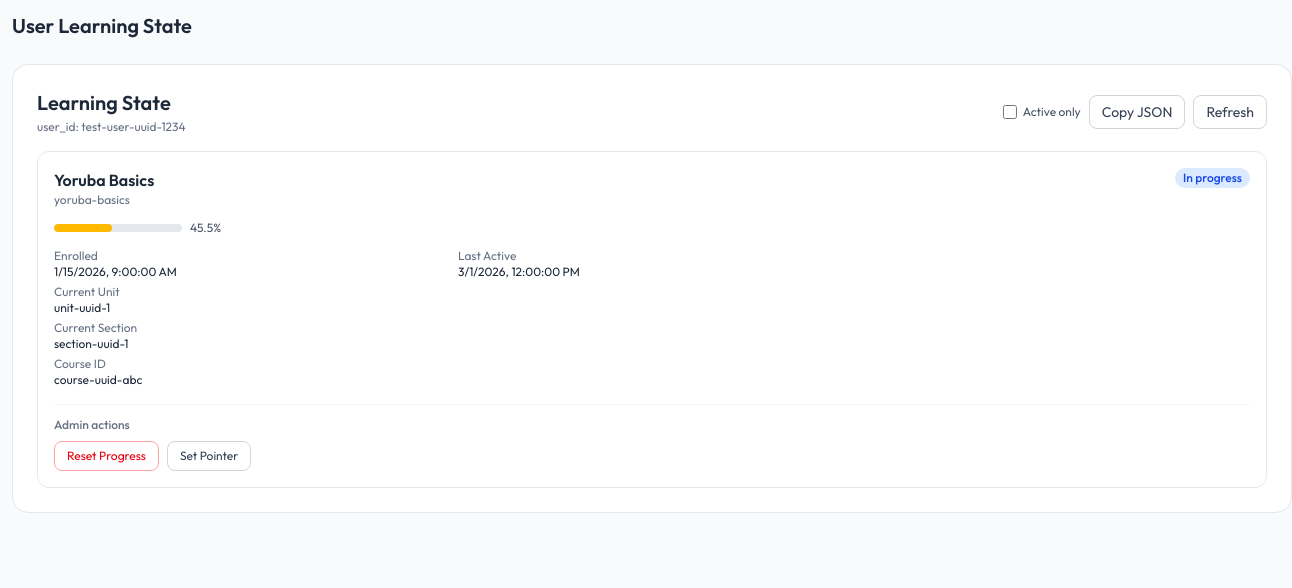
Scenario: UserLearningStatePage › shows toast notification after successful reset
Click the button "Reset Progress" at (106, 456), box [54,441,159,471]
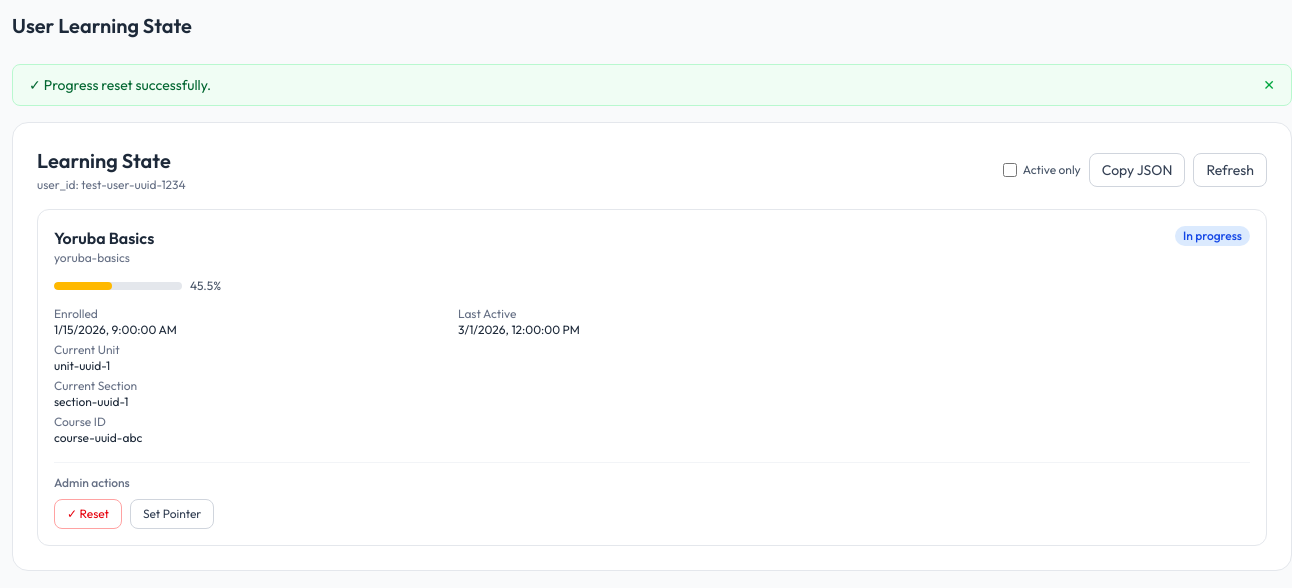
Now the text "✓ Progress reset successfully." is shown, box [29,75,211,95]
